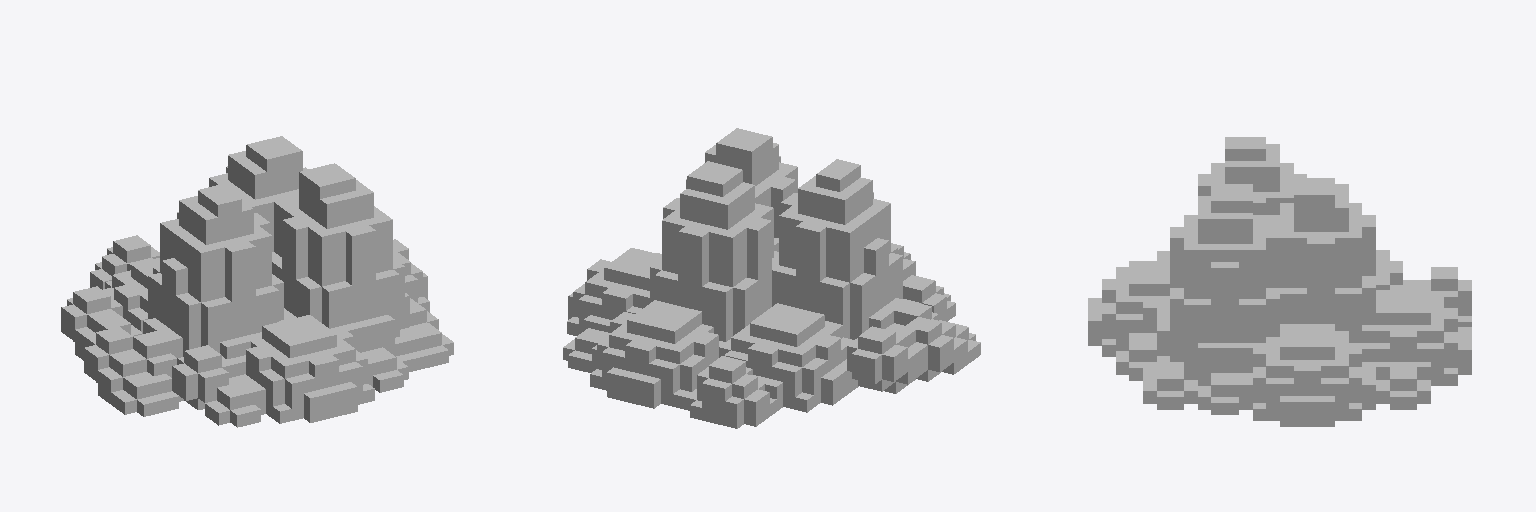
The model's file is Attack1.obj.
3 views of the same model, side by side, from view 1: azimuth 30°, elevation 25°; view 2: azimuth 150°, elevation 25°; view 3: azimuth 270°, elevation 25° (orthographic).
Visible parts, largest first — view 1: Model; view 2: Model; view 3: Model.
Part boxes in pixels (x1,y1,x2,y2): Model: (61,136,453,427); Model: (563,128,980,428); Model: (1088,137,1471,426).
Size of the model in its own units: 32 by 15.45 by 30.9.